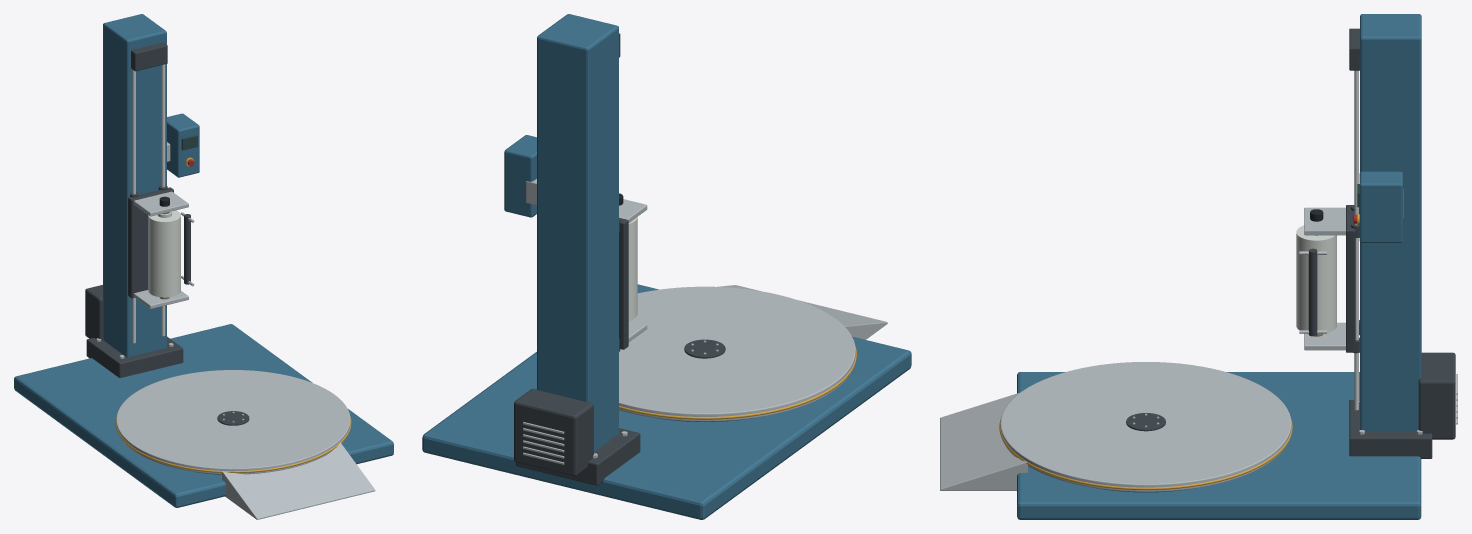
Rendered from city-pallet-stretch-wrapper.glb.
3 renders of one model, left to right at view 1: azimuth 30°, elevation 25°; view 2: azimuth 150°, elevation 25°; view 3: azimuth 270°, elevation 25°, orthographic. The views are drawn at different scales.
Parts seen in each view (by area): view 1: Assembly | Industrial muted blue finish, Assembly | Satin galvanized support metal, Assembly | Dark steel fittings, Assembly | Opaque pale wound film appearance, Assembly | Bright roller and hardware metal, Assembly | Muted warm safety accent; view 2: Assembly | Industrial muted blue finish, Assembly | Satin galvanized support metal, Assembly | Dark steel fittings, Assembly | Opaque pale wound film appearance, Assembly | Muted warm safety accent; view 3: Assembly | Industrial muted blue finish, Assembly | Satin galvanized support metal, Assembly | Dark steel fittings, Assembly | Opaque pale wound film appearance, Assembly | Bright roller and hardware metal, Assembly | Muted warm safety accent.
Boxes of the visible parts, bbox=[...] form: Assembly | Industrial muted blue finish: bbox=[14, 14, 393, 507]; Assembly | Satin galvanized support metal: bbox=[96, 142, 375, 519]; Assembly | Dark steel fittings: bbox=[85, 42, 249, 474]; Assembly | Opaque pale wound film appearance: bbox=[148, 210, 180, 297]; Assembly | Bright roller and hardware metal: bbox=[132, 64, 171, 343]; Assembly | Muted warm safety accent: bbox=[115, 157, 351, 472]; Assembly | Industrial muted blue finish: bbox=[422, 14, 911, 519]; Assembly | Satin galvanized support metal: bbox=[523, 179, 887, 464]; Assembly | Dark steel fittings: bbox=[514, 33, 753, 485]; Assembly | Opaque pale wound film appearance: bbox=[628, 217, 637, 320]; Assembly | Muted warm safety accent: bbox=[619, 346, 856, 419]; Assembly | Industrial muted blue finish: bbox=[1017, 14, 1421, 519]; Assembly | Satin galvanized support metal: bbox=[940, 189, 1457, 491]; Assembly | Dark steel fittings: bbox=[1102, 28, 1455, 492]; Assembly | Opaque pale wound film appearance: bbox=[1296, 225, 1336, 334]; Assembly | Bright roller and hardware metal: bbox=[1315, 70, 1358, 410]; Assembly | Muted warm safety accent: bbox=[999, 214, 1359, 489].
Bounding box in the file's own units: 1.59 × 2.41 × 2.62.
